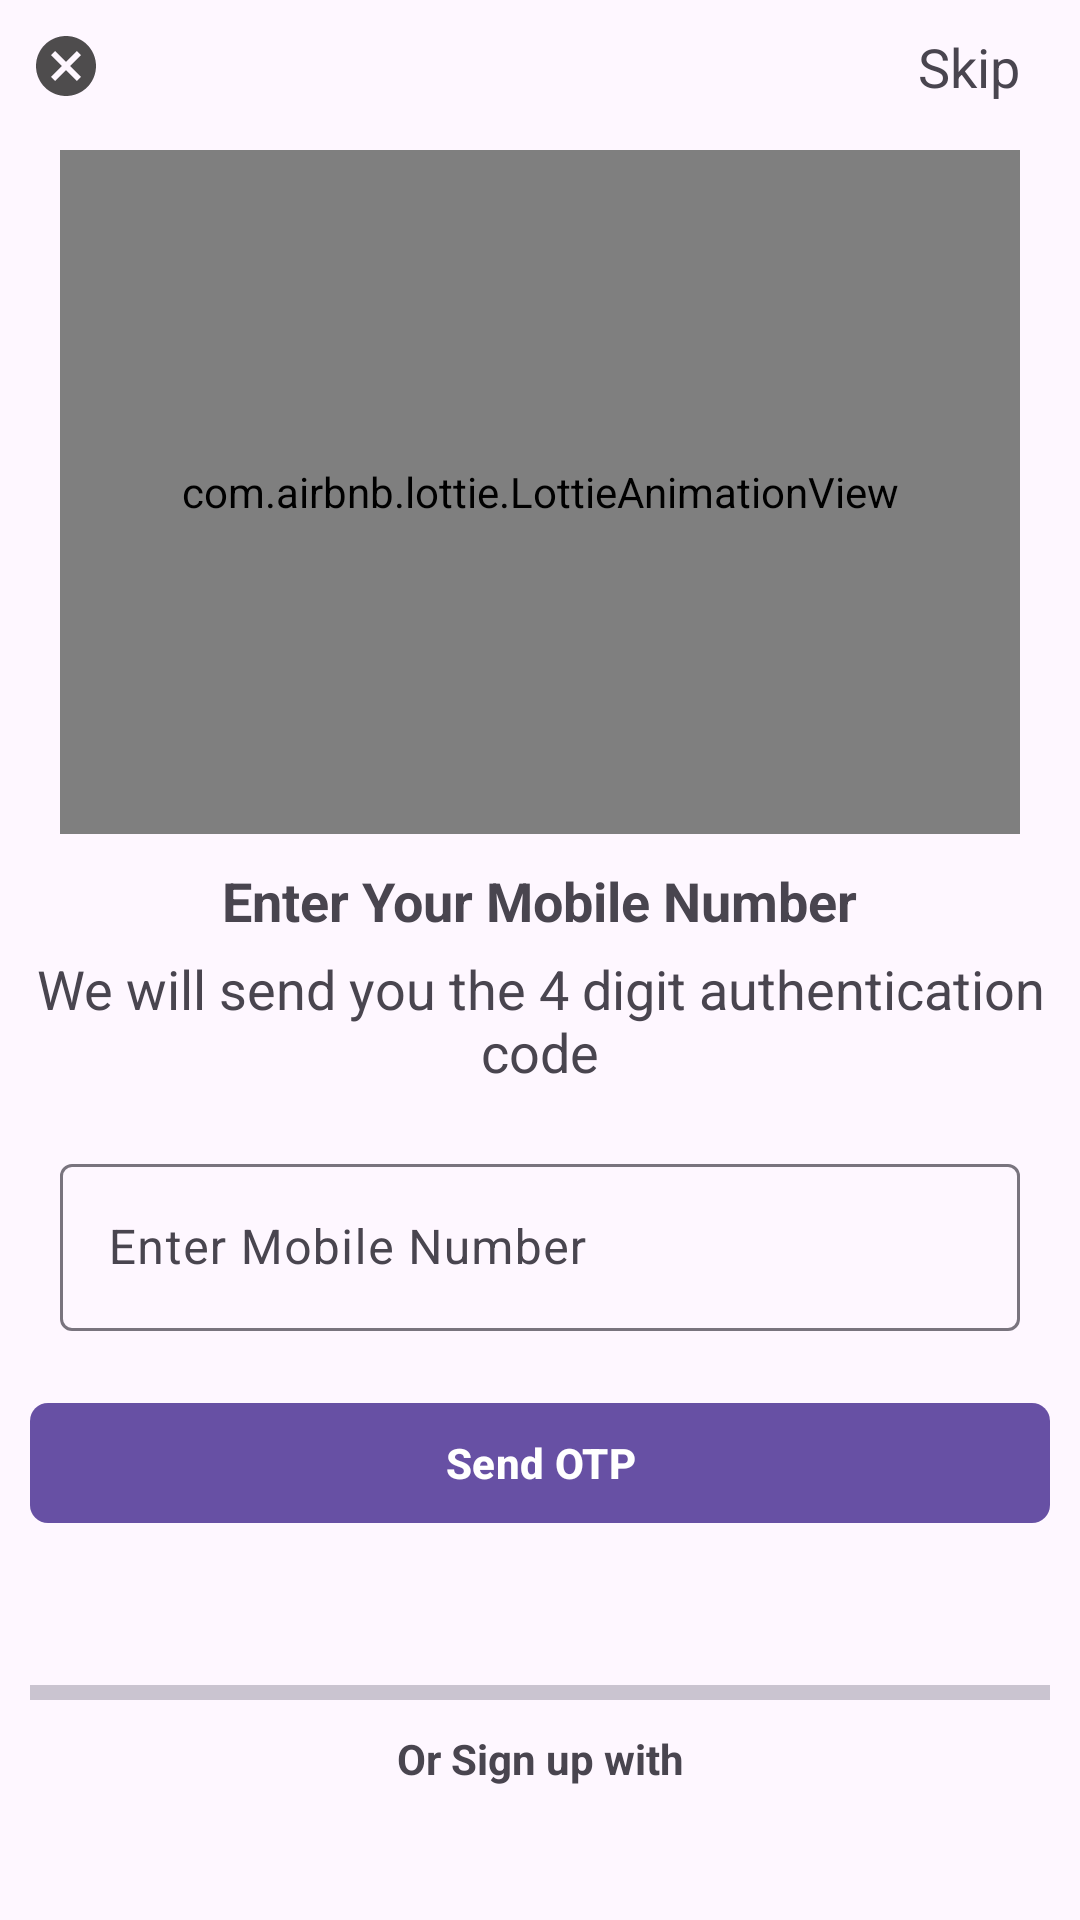

Icons on this 1080×1920 Android screen, each with the point to tap as (x,y):
cancel: (66,66)
